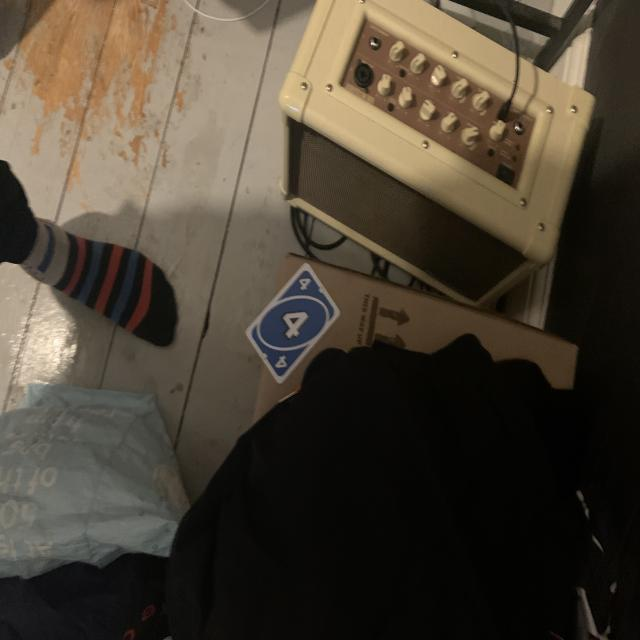lblue-4: (293, 273, 313, 295)
